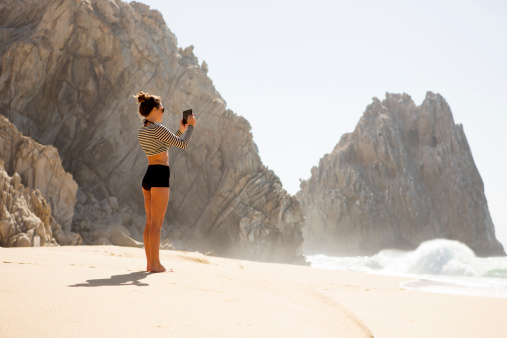em pe: (118, 87, 197, 265)
